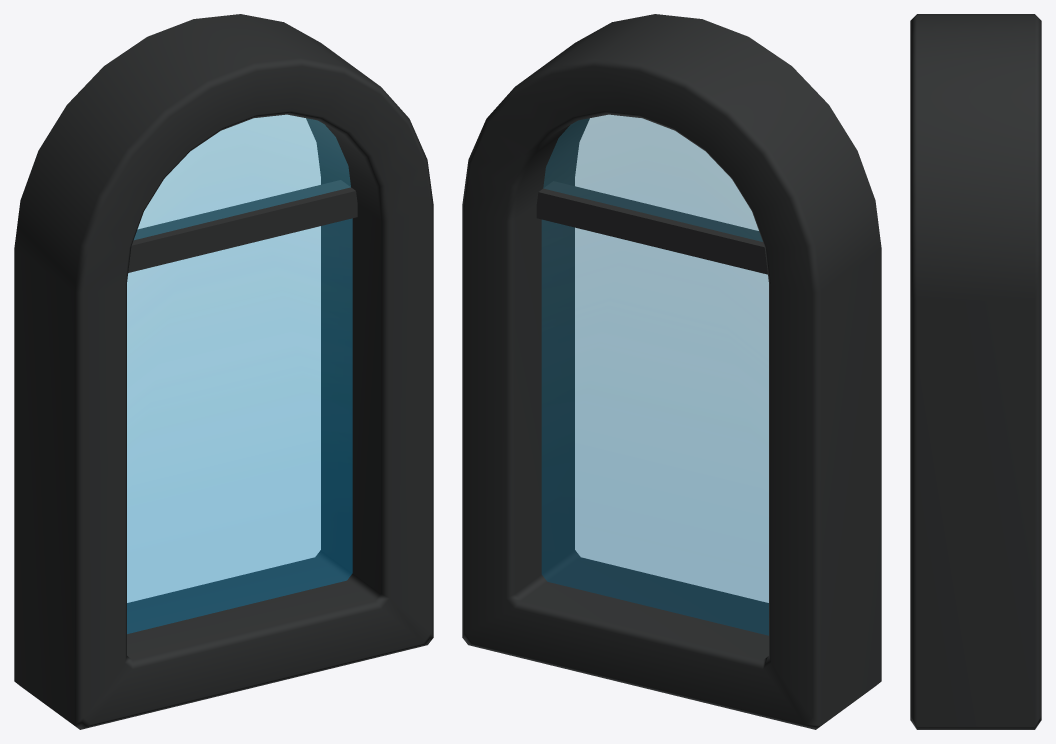
The model's file is Window_Black_18.glb.
3 renders of one model, left to right at view 1: azimuth 30°, elevation 25°; view 2: azimuth 150°, elevation 25°; view 3: azimuth 270°, elevation 25°, orthographic.
Parts seen in each view (by area): view 1: Window_Black_18; view 2: Window_Black_18; view 3: Window_Black_18.
Part boxes in pixels (x1=…): Window_Black_18: x1=14, y1=14, x2=433, y2=729; Window_Black_18: x1=462, y1=14, x2=881, y2=729; Window_Black_18: x1=910, y1=14, x2=1041, y2=729.
Size of the model in its own units: 1.24 by 2.07 by 0.4.
Materials: 2 (2 with a texture image).
